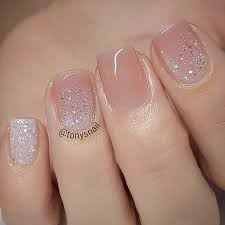nail: (151, 20, 209, 81), (96, 48, 150, 108), (52, 69, 97, 131), (7, 116, 39, 167)
